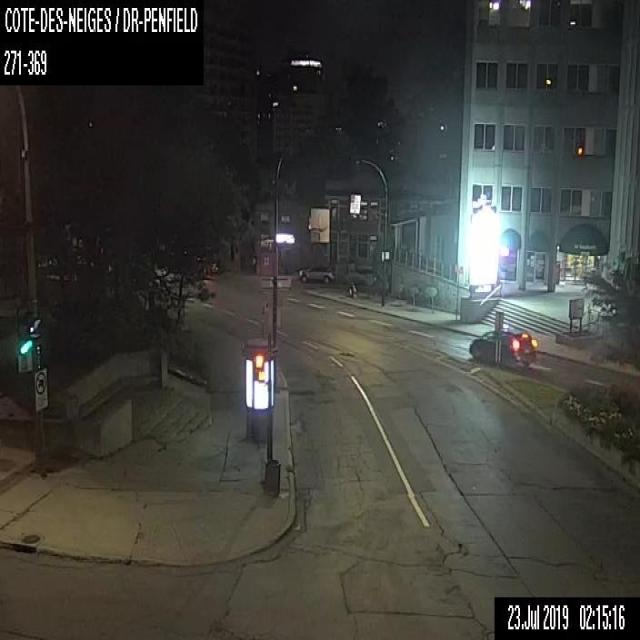vehicle: (467, 327, 537, 369), (299, 263, 334, 284)
